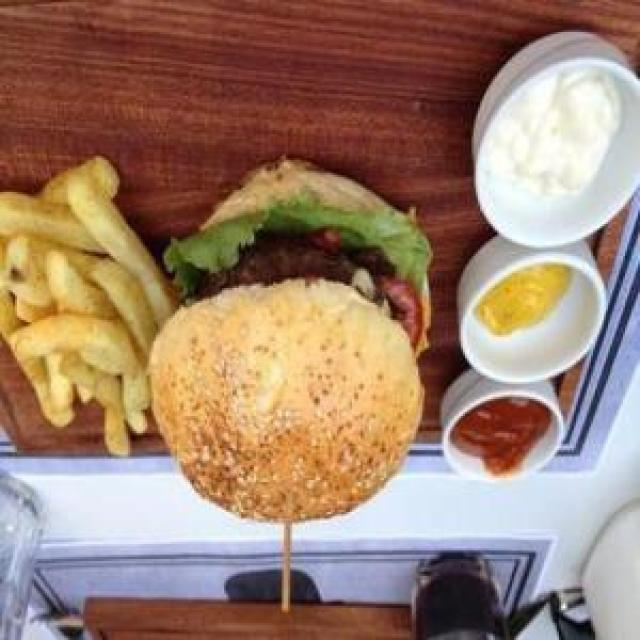Burger: (147, 157, 435, 526)
